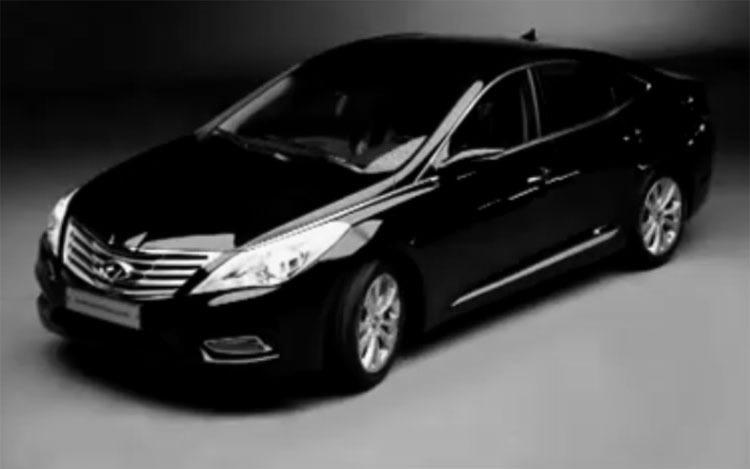car: (34, 29, 717, 397)
